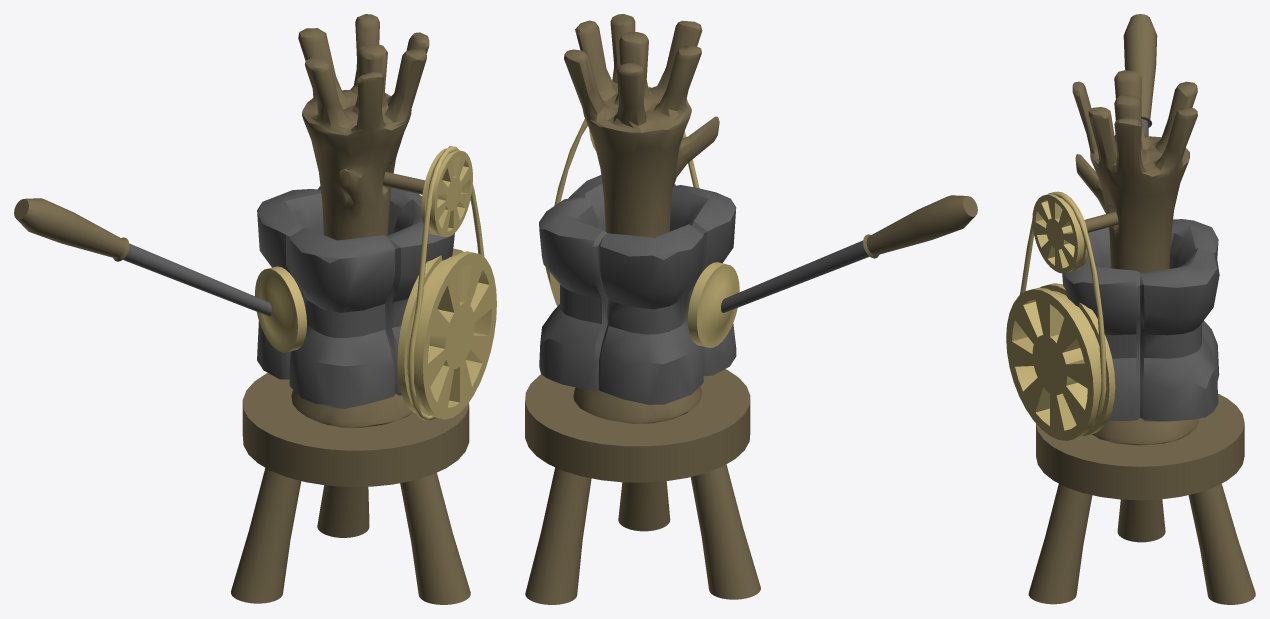
Rendered from 炼金机器.fbx.
3 renders of one model, left to right at view 1: azimuth 30°, elevation 25°; view 2: azimuth 150°, elevation 25°; view 3: azimuth 270°, elevation 25°, orthographic. The views are drawn at different scales.
Parts seen in each view (by area): view 1: 身体, 石头, 轮子2, 手柄, 开关基座, 轮子1, 绳子; view 2: 身体, 石头, 手柄, 开关基座, 绳子; view 3: 身体, 石头, 轮子2, 轮子1, 手柄, 绳子.
Part boxes in pixels (left/top/right/bottom): 身体: left=231, top=14, right=470, bottom=604; 石头: left=257, top=186, right=454, bottom=408; 轮子2: left=397, top=248, right=496, bottom=419; 手柄: left=14, top=198, right=271, bottom=316; 开关基座: left=255, top=266, right=306, bottom=352; 轮子1: left=421, top=148, right=472, bottom=237; 绳子: left=408, top=146, right=484, bottom=420; 身体: left=525, top=14, right=760, bottom=604; 石头: left=539, top=175, right=736, bottom=404; 手柄: left=721, top=195, right=977, bottom=312; 开关基座: left=687, top=262, right=739, bottom=347; 绳子: left=545, top=119, right=699, bottom=287; 身体: left=1028, top=70, right=1255, bottom=604; 石头: left=1062, top=219, right=1219, bottom=421; 轮子2: left=1006, top=283, right=1115, bottom=440; 轮子1: left=1032, top=191, right=1087, bottom=273; 手柄: left=1123, top=14, right=1157, bottom=136; 绳子: left=1019, top=191, right=1106, bottom=425.
Bounding box in the file's own units: 3.63 × 4.03 × 1.88.
